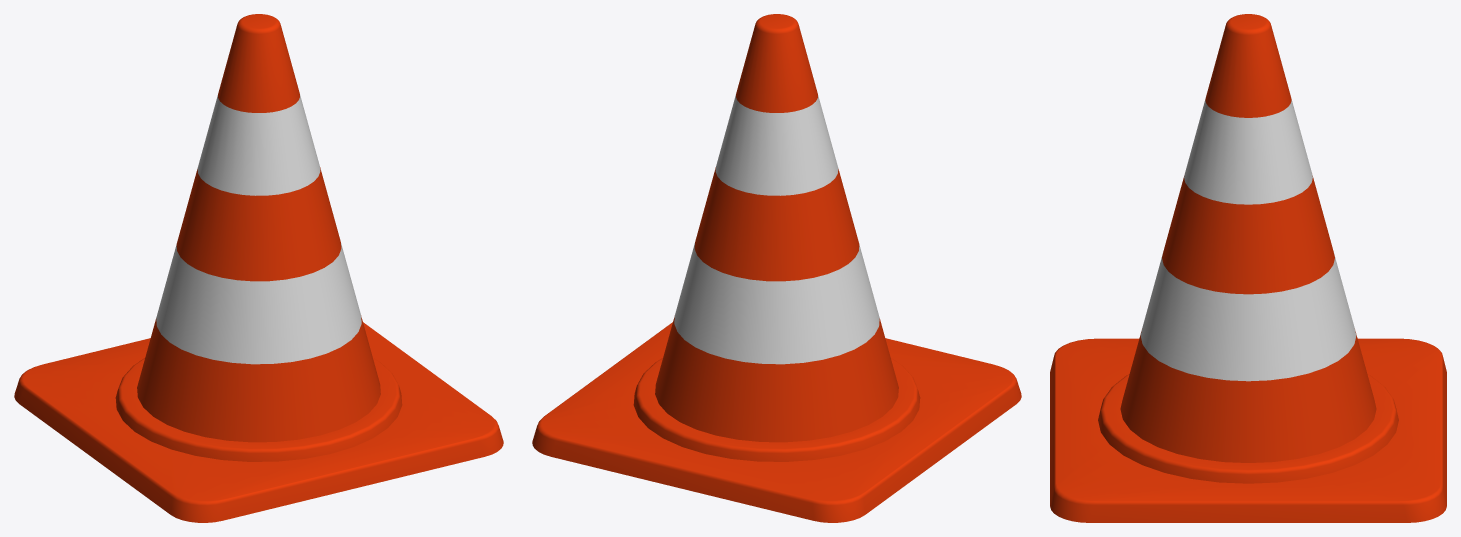
Rendered from TrafficCone.fbx.
3 views of the same model, side by side, from view 1: azimuth 30°, elevation 25°; view 2: azimuth 150°, elevation 25°; view 3: azimuth 270°, elevation 25° (orthographic). The views are drawn at different scales.
Parts seen in each view (by area): view 1: Cube; view 2: Cube; view 3: Cube.
Part boxes in pixels (<box>): Cube: <box>14,14,503,522</box>; Cube: <box>532,14,1021,522</box>; Cube: <box>1050,14,1446,522</box>.
Bounding box in the file's own units: 293 × 340 × 293.
